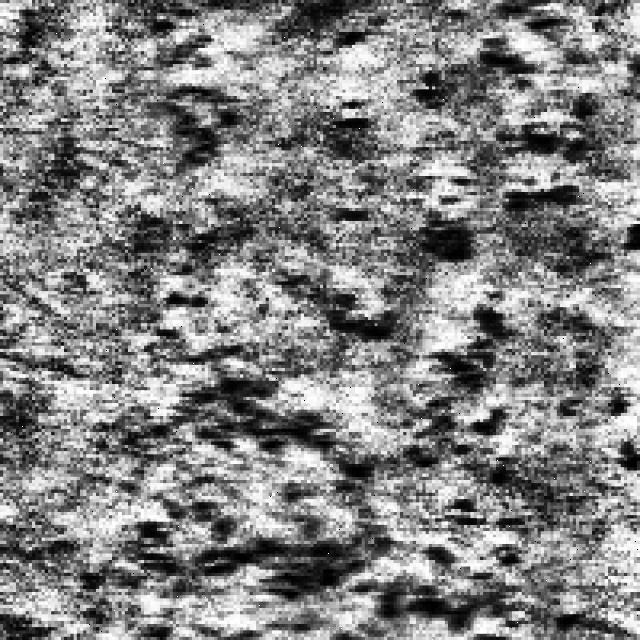Crazing: (83, 288, 550, 634), (340, 0, 614, 339), (150, 0, 260, 170)
